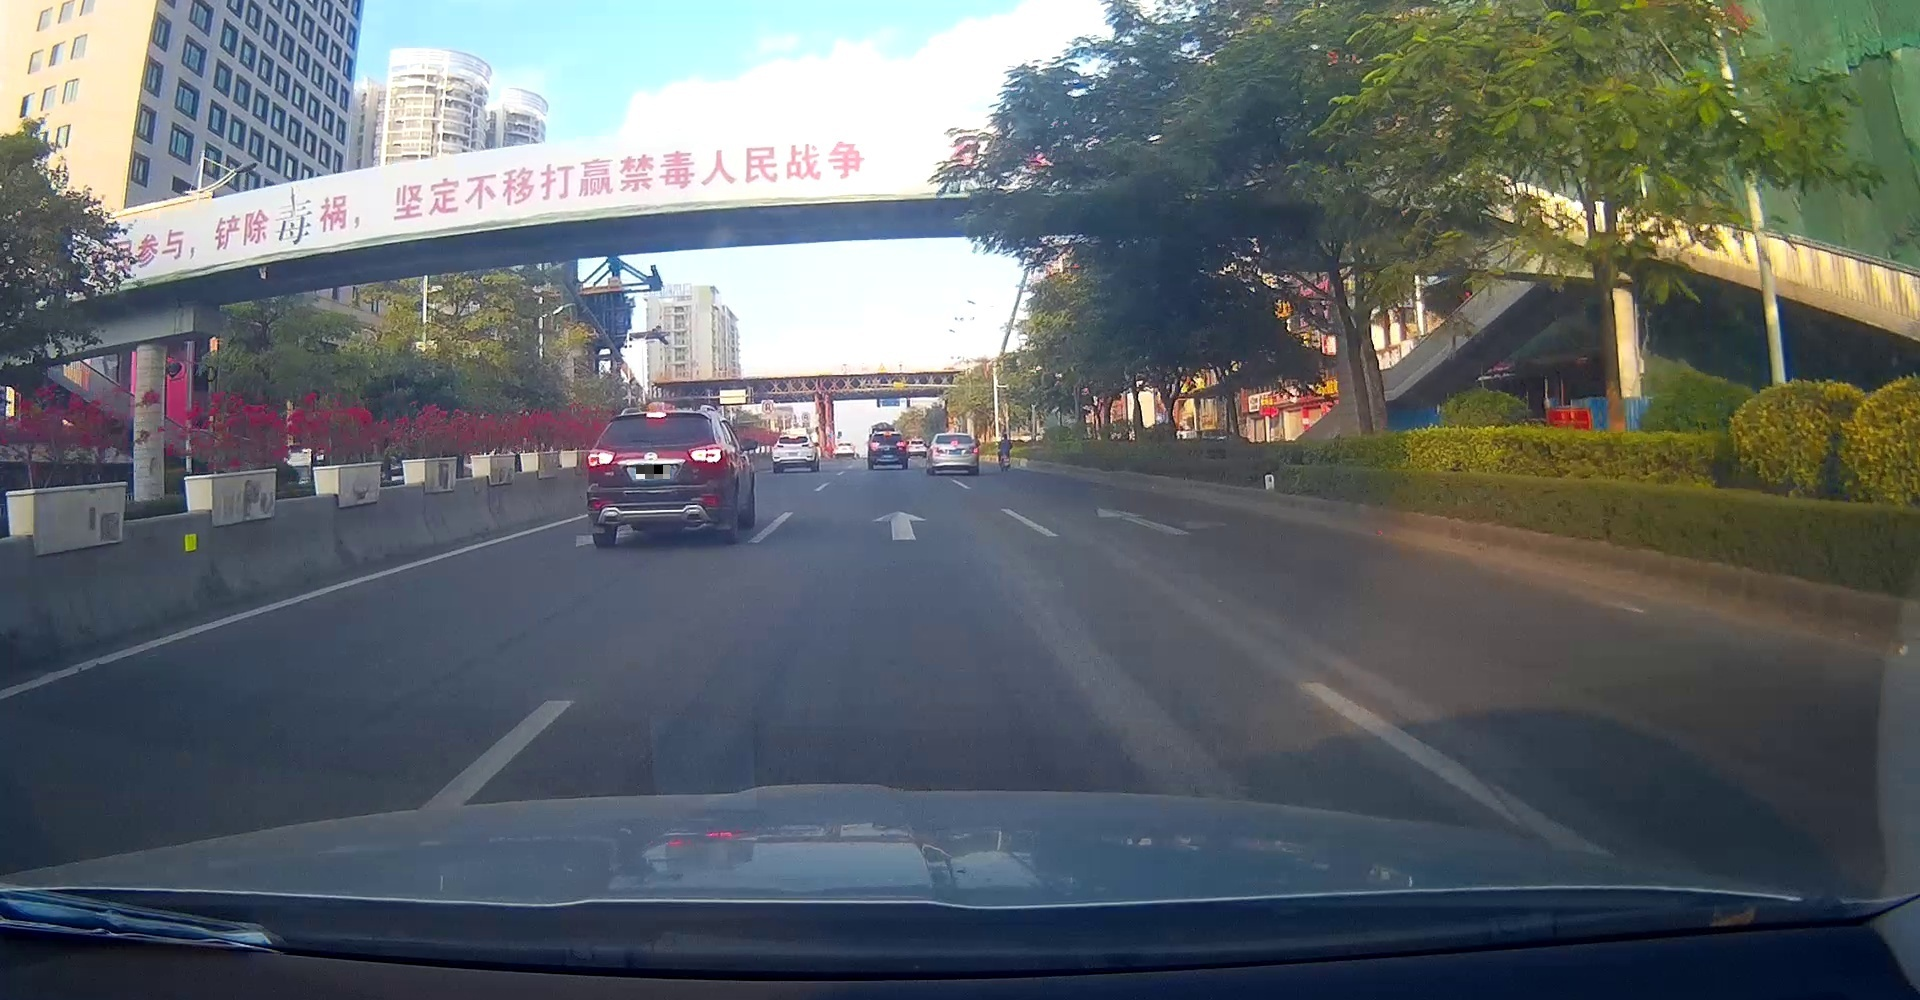L_light: (585, 447, 617, 468), (931, 445, 943, 456), (869, 442, 880, 452)
R_light: (686, 444, 726, 467), (895, 442, 907, 452), (969, 445, 978, 454)
T_light: (643, 411, 668, 420), (883, 431, 891, 437), (950, 440, 959, 445)
day-brake: (584, 409, 733, 547)
day-no: (931, 431, 979, 476), (867, 430, 908, 470)
plate_1: (636, 464, 670, 478)
